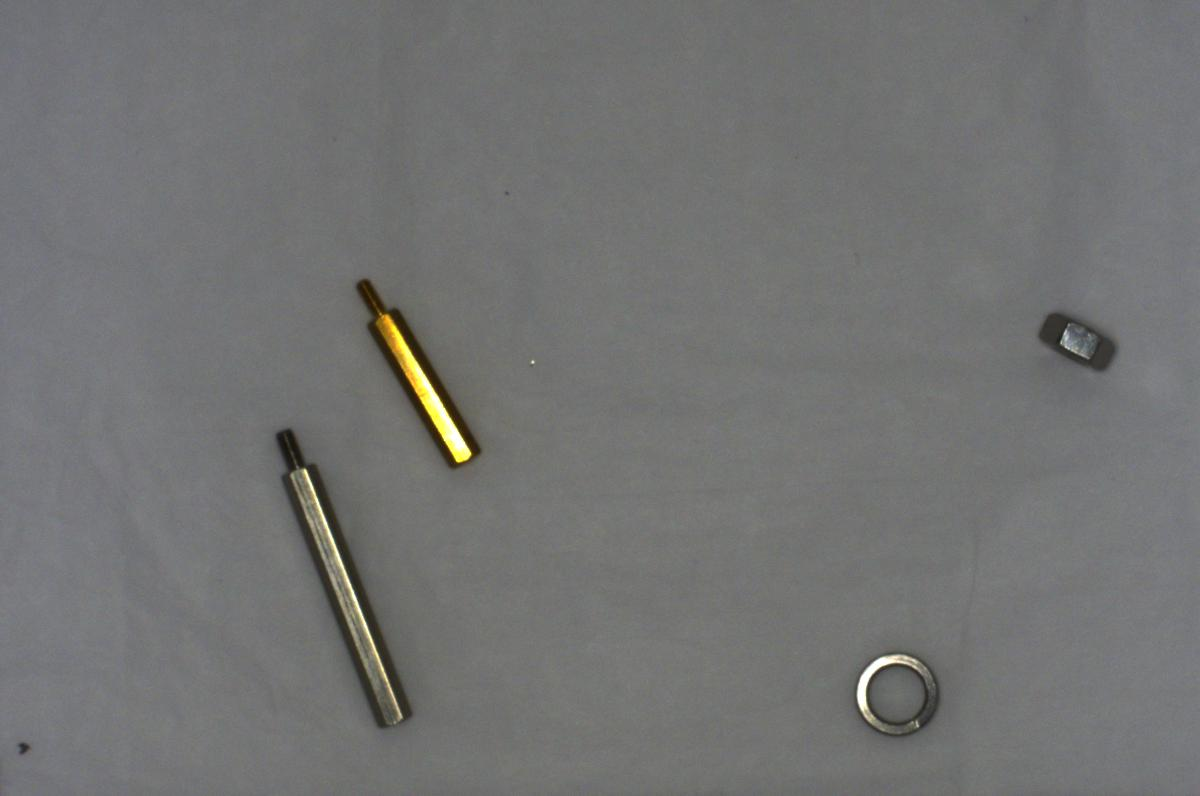Hexagon nut: (1031, 302, 1122, 381)
Hexagon pillar: (352, 268, 482, 472)
Hexagonal steel column: (270, 418, 419, 735)
Spring washer: (848, 642, 945, 745)
